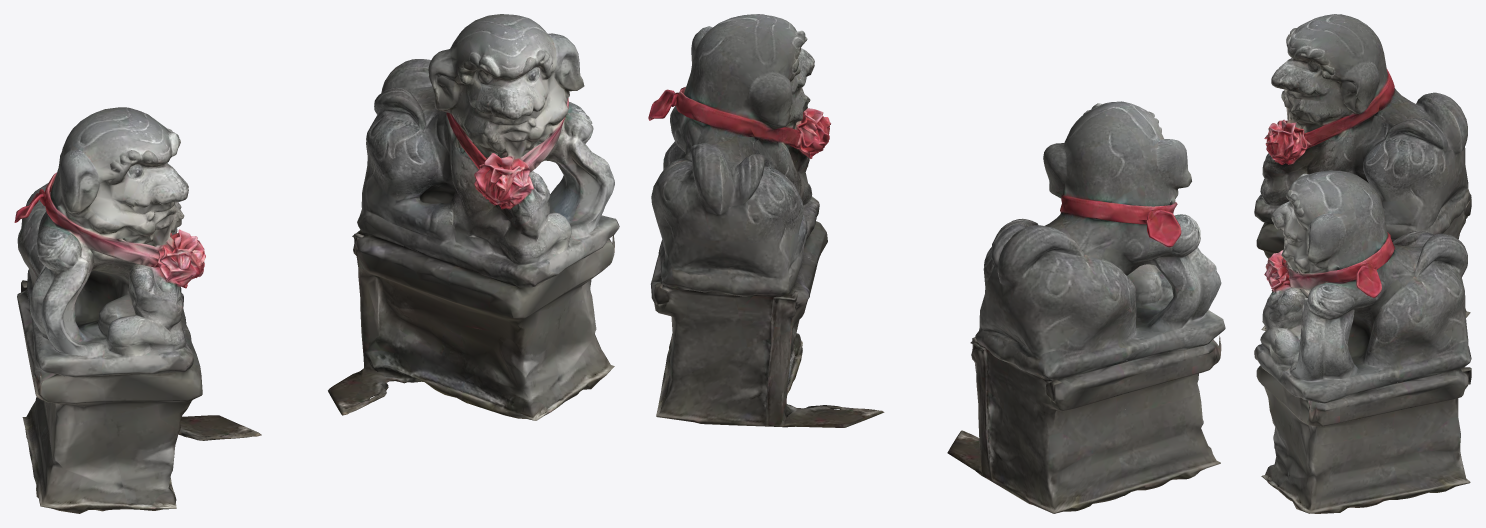
Rendered from lions.glb.
The picture shows the model from 3 angles, left to right: view 1: azimuth 30°, elevation 25°; view 2: azimuth 150°, elevation 25°; view 3: azimuth 270°, elevation 25°; orthographic projection. The views are drawn at different scales.
Visible parts, largest first — view 1: tripo_node_d3a98527-80e8-4681-8827-334841b1c64b; view 2: tripo_node_d3a98527-80e8-4681-8827-334841b1c64b; view 3: tripo_node_d3a98527-80e8-4681-8827-334841b1c64b.
Part boxes in pixels (x1,y1,x2,y2): tripo_node_d3a98527-80e8-4681-8827-334841b1c64b: [14, 14, 619, 513]; tripo_node_d3a98527-80e8-4681-8827-334841b1c64b: [648, 14, 1225, 513]; tripo_node_d3a98527-80e8-4681-8827-334841b1c64b: [1254, 14, 1471, 513].
Size of the model in its own units: 0.2794 by 0.17 by 0.1087.
1 material, 1 textured.
